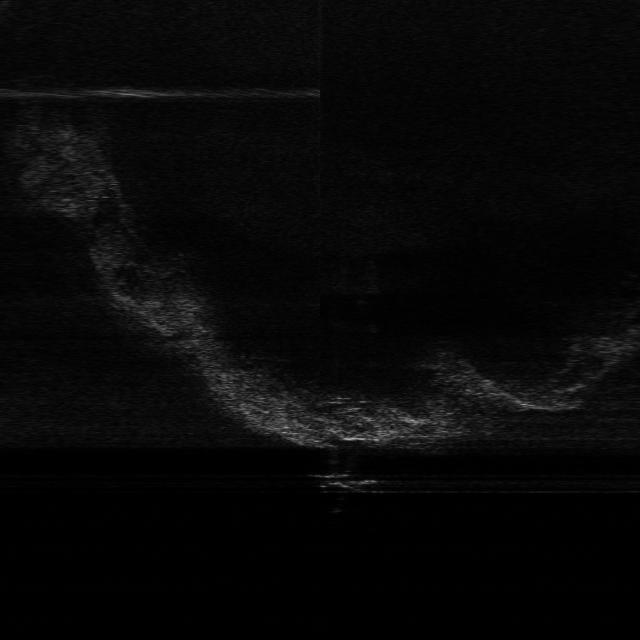plane: (306, 472, 383, 494)
